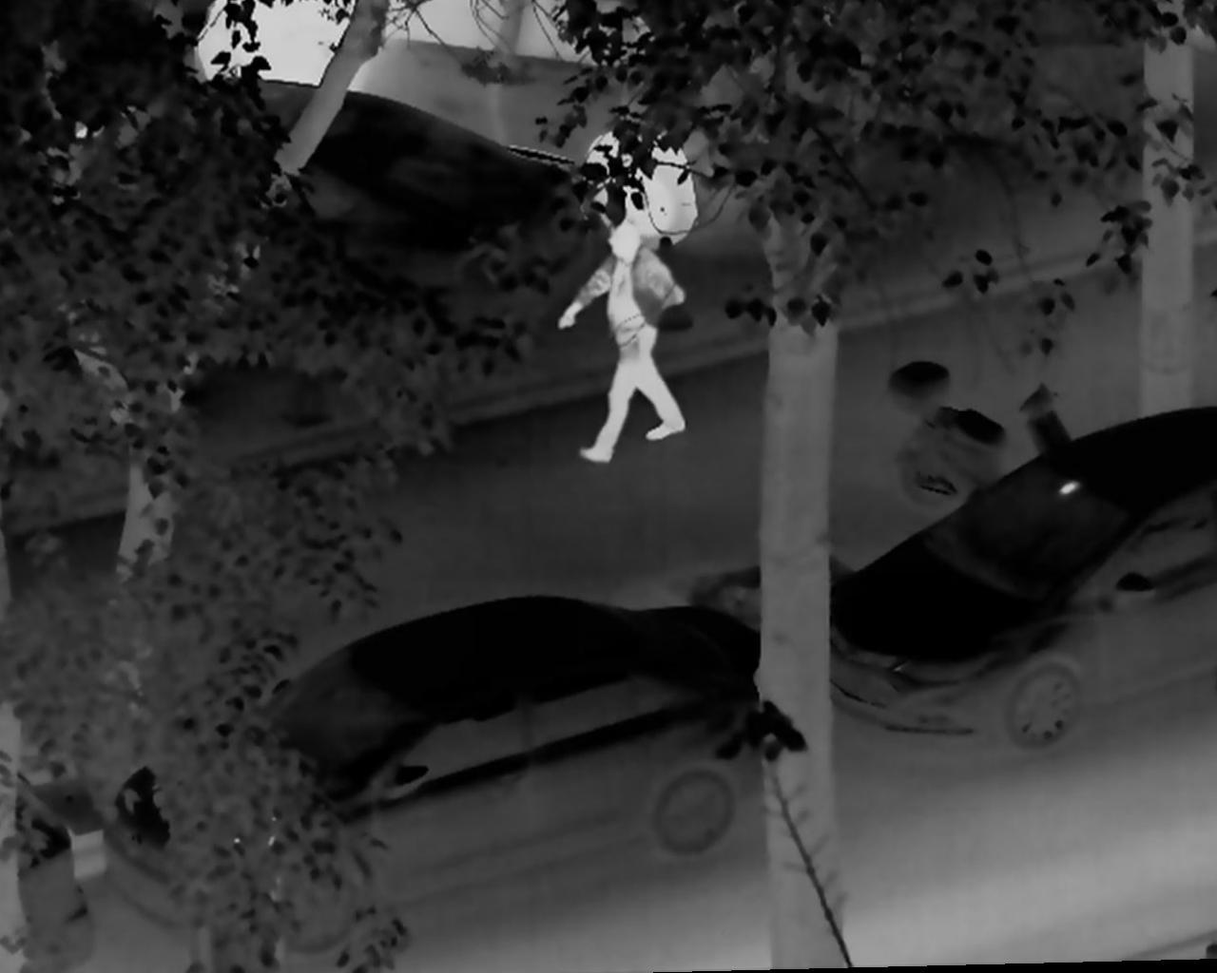person: (554, 210, 692, 466)
